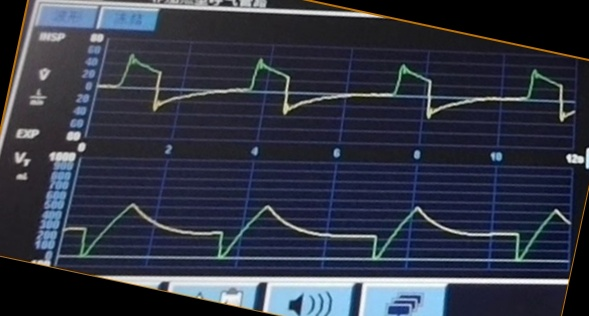Flow: (108, 52, 574, 133)
Leakage Volume: (74, 191, 565, 270)
